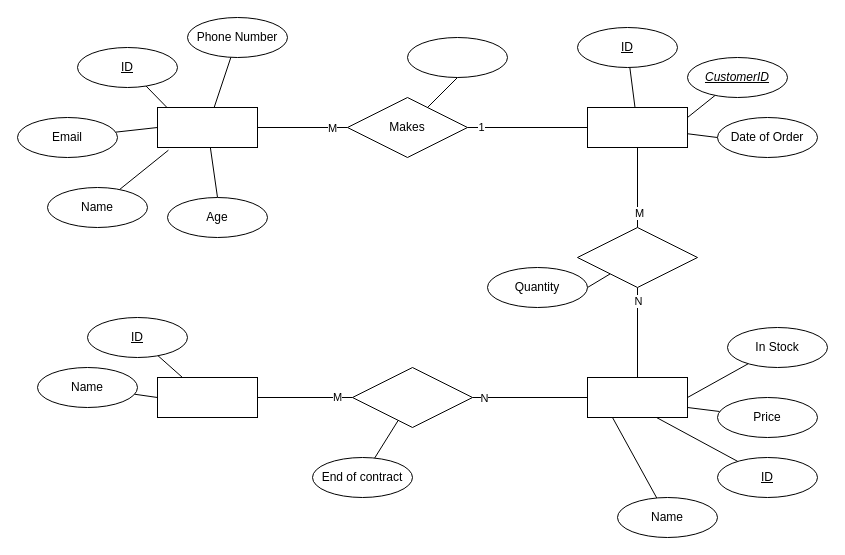
Some shapes in this 845 by 555 pixel diagram are drawn without their labels. Each missing label, with the centre of its shape:
"Contains" belongs at (637,257).
"Customer" belongs at (207,127).
"Orders" belongs at (637,127).
"Product" belongs at (637,397).
"Shipment Address" belongs at (457,57).
"Supplier" belongs at (207,397).
"Supplies" belongs at (412,397).
